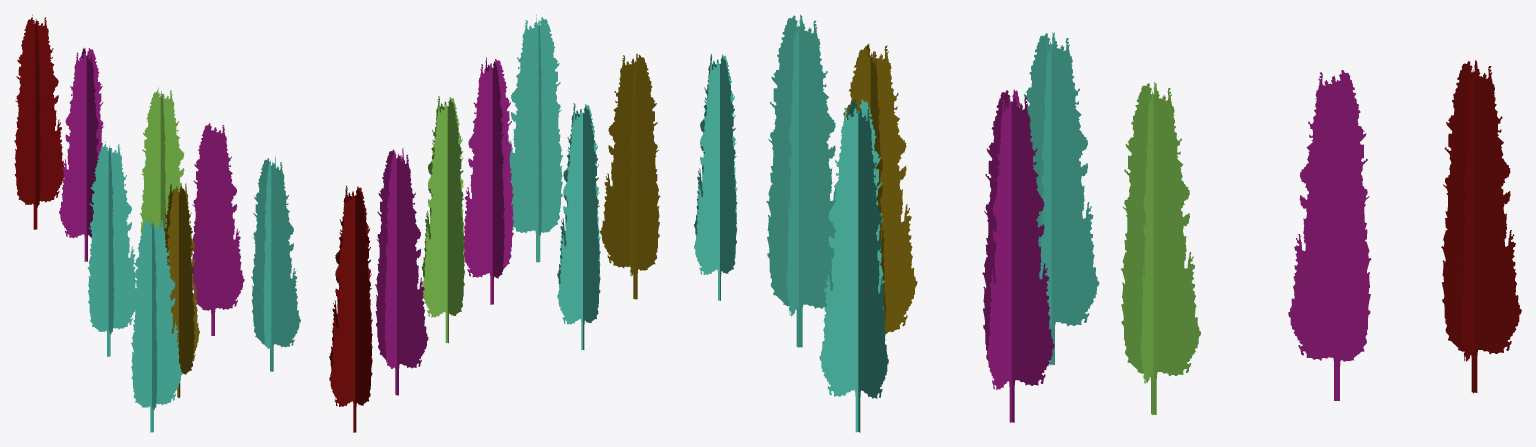
3 renders of one model, left to right at view 1: azimuth 30°, elevation 25°; view 2: azimuth 150°, elevation 25°; view 3: azimuth 270°, elevation 25°, orthographic. The views are drawn at different scales.
Parts seen in each view (by area): view 1: Group_013, Group_003, Group_011, Group_007, Group_001, Group_015, Group_005, Group_009; view 2: Group_005, Group_001, Group_015, Group_013, Group_011, Group_007, Group_009, Group_003; view 3: Group_015, Group_011, Group_009, Group_003, Group_013, Group_001, Group_007, Group_005.
Part boxes in pixels (box(x1,y1,x2,y2)): Group_013: box(192, 123, 244, 335); Group_003: box(131, 217, 182, 432); Group_011: box(14, 14, 64, 229); Group_007: box(87, 141, 136, 356); Group_001: box(251, 156, 300, 371); Group_015: box(59, 48, 103, 261); Group_005: box(164, 183, 199, 397); Group_009: box(140, 87, 184, 238); Group_005: box(600, 53, 660, 299); Group_001: box(509, 14, 562, 262); Group_015: box(375, 147, 428, 395); Group_013: box(463, 57, 513, 304); Group_011: box(329, 185, 372, 432); Group_007: box(557, 103, 600, 350); Group_009: box(421, 96, 465, 343); Group_003: box(694, 54, 737, 300); Group_015: box(1288, 70, 1371, 400); Group_011: box(1441, 60, 1521, 393); Group_009: box(1121, 82, 1200, 415); Group_003: box(766, 14, 836, 347); Group_013: box(982, 89, 1054, 422); Group_001: box(819, 99, 888, 432); Group_007: box(1023, 32, 1099, 365); Group_005: box(843, 43, 917, 333).
Bounding box in the file's own units: 10457 × 13009 × 24631.
